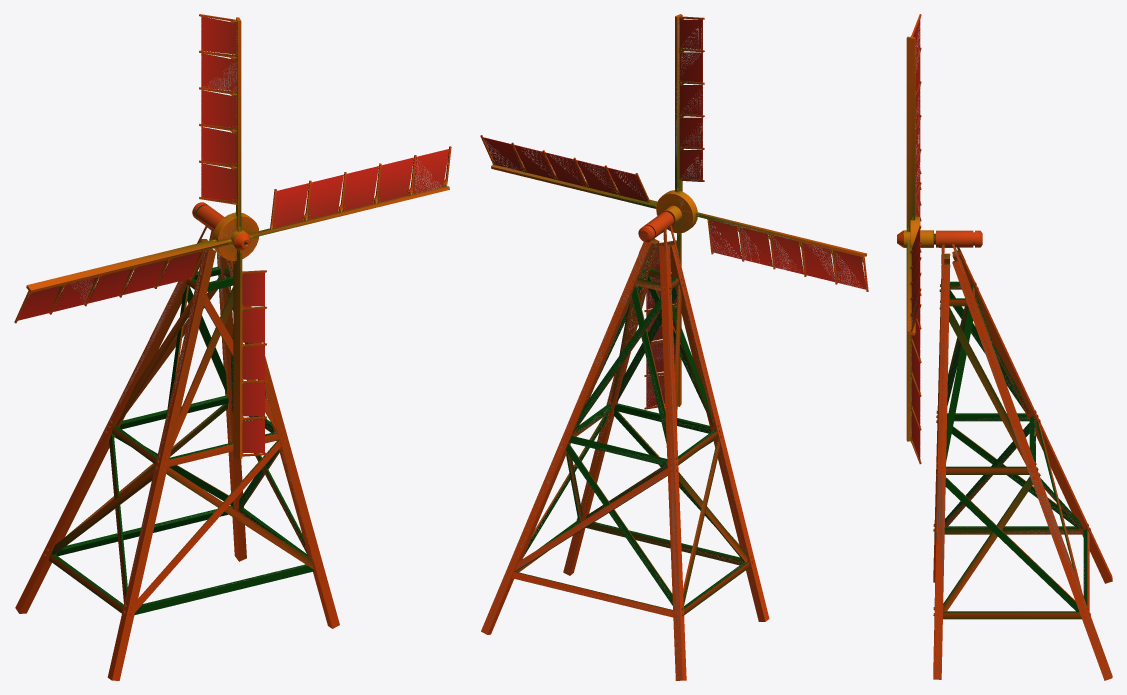
File: KB3D_CSK_PropWindmillB_A.glb
3 views of the same model, side by side, from view 1: azimuth 30°, elevation 25°; view 2: azimuth 150°, elevation 25°; view 3: azimuth 270°, elevation 25° (orthographic). The views are drawn at different scales.
Parts seen in each view (by area): view 1: L0, L2, L1; view 2: L0, L2, L1; view 3: L0, L2, L1.
Boxes of the visible parts, <box> form: L0: <box>14,14,450,680</box>; L2: <box>16,15,451,632</box>; L1: <box>15,14,451,456</box>; L0: <box>480,14,868,680</box>; L2: <box>481,14,866,680</box>; L1: <box>491,16,864,376</box>; L0: <box>897,15,1112,680</box>; L2: <box>903,16,1112,679</box>; L1: <box>911,14,965,463</box>.
Size of the model in its own units: 9.14 by 13.1 by 4.25.
